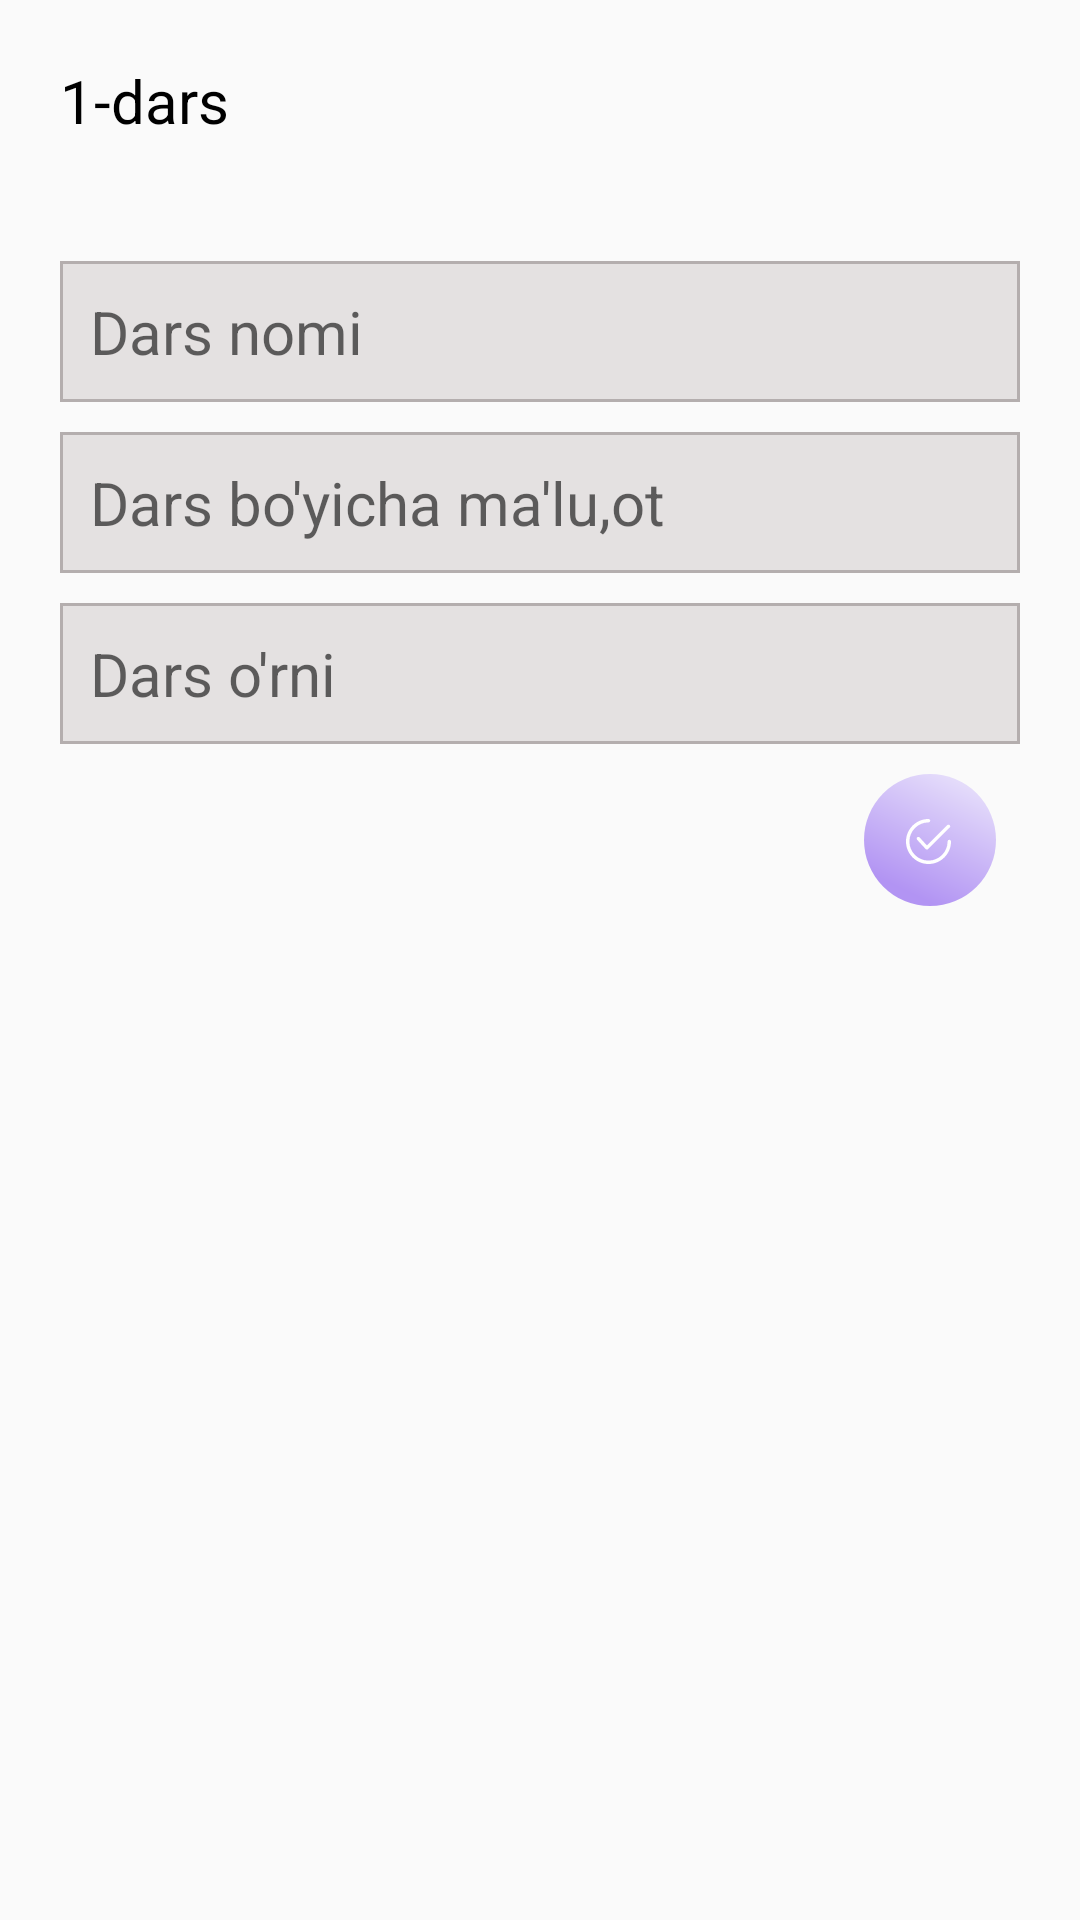

Named icons in this screenshot (1080px x 1920px) and their bounding boxes, (x1, y1, x2, y2):
checked: (864, 774, 996, 906)
